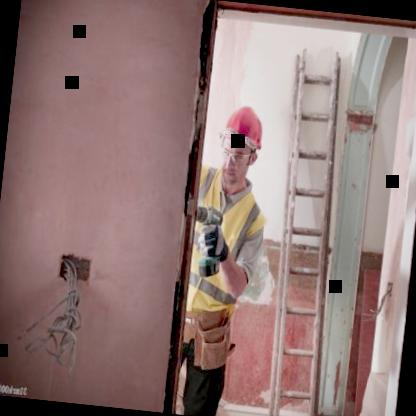helmet: (212, 98, 271, 194)
